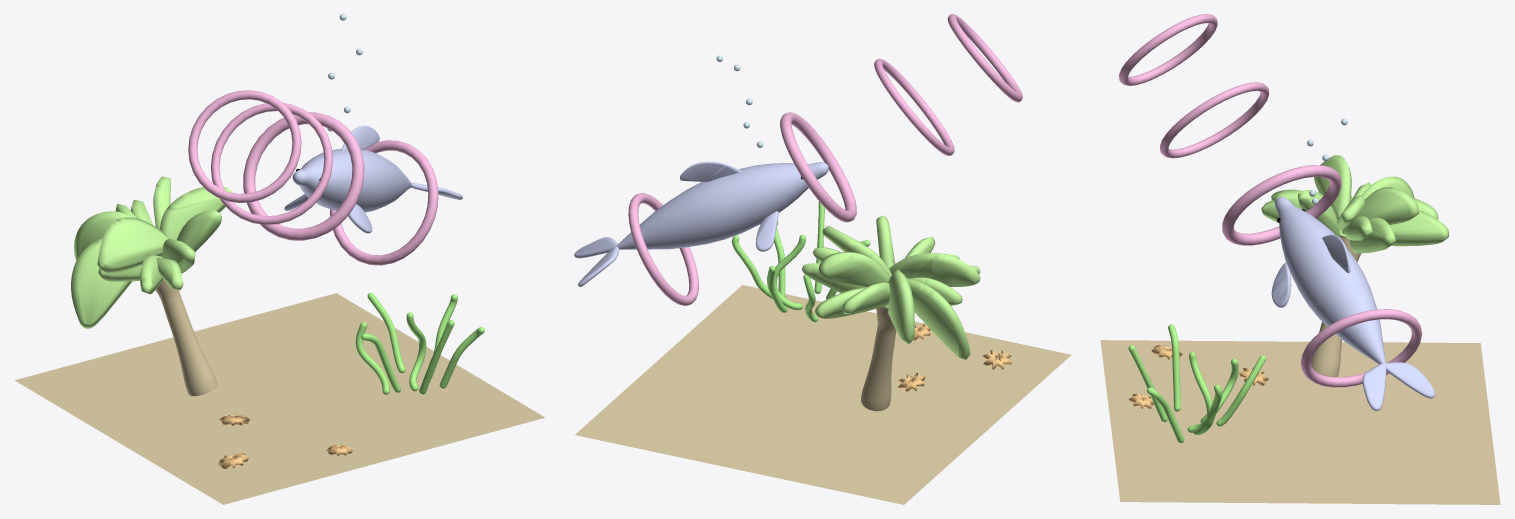
The model's file is newdolphin.glb.
3 renders of one model, left to right at view 1: azimuth 30°, elevation 25°; view 2: azimuth 150°, elevation 25°; view 3: azimuth 270°, elevation 25°, orthographic. The views are drawn at different scales.
Visible parts, largest first — view 1: dolphinfinal; view 2: dolphinfinal; view 3: dolphinfinal.
Boxes of the visible parts, <box> form: dolphinfinal: <box>15,14,545,504</box>; dolphinfinal: <box>574,14,1071,504</box>; dolphinfinal: <box>1100,14,1500,504</box>.
Bounding box in the file's own units: 2.99 × 2.68 × 2.61.
